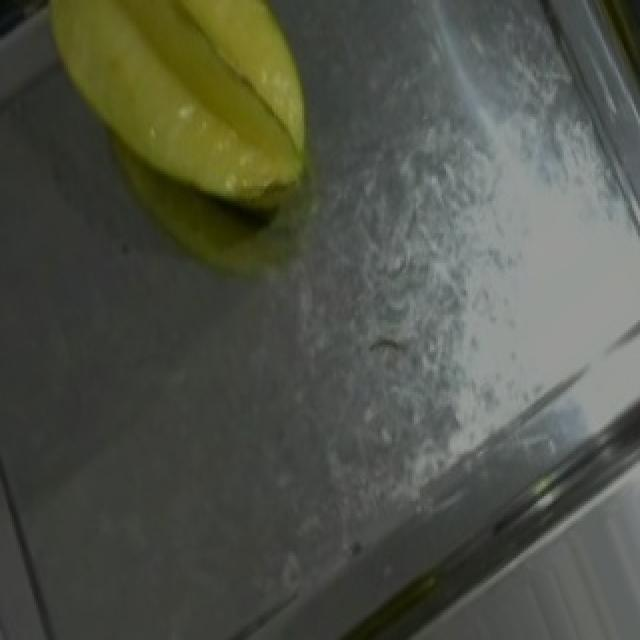fruit: (20, 0, 354, 243)
